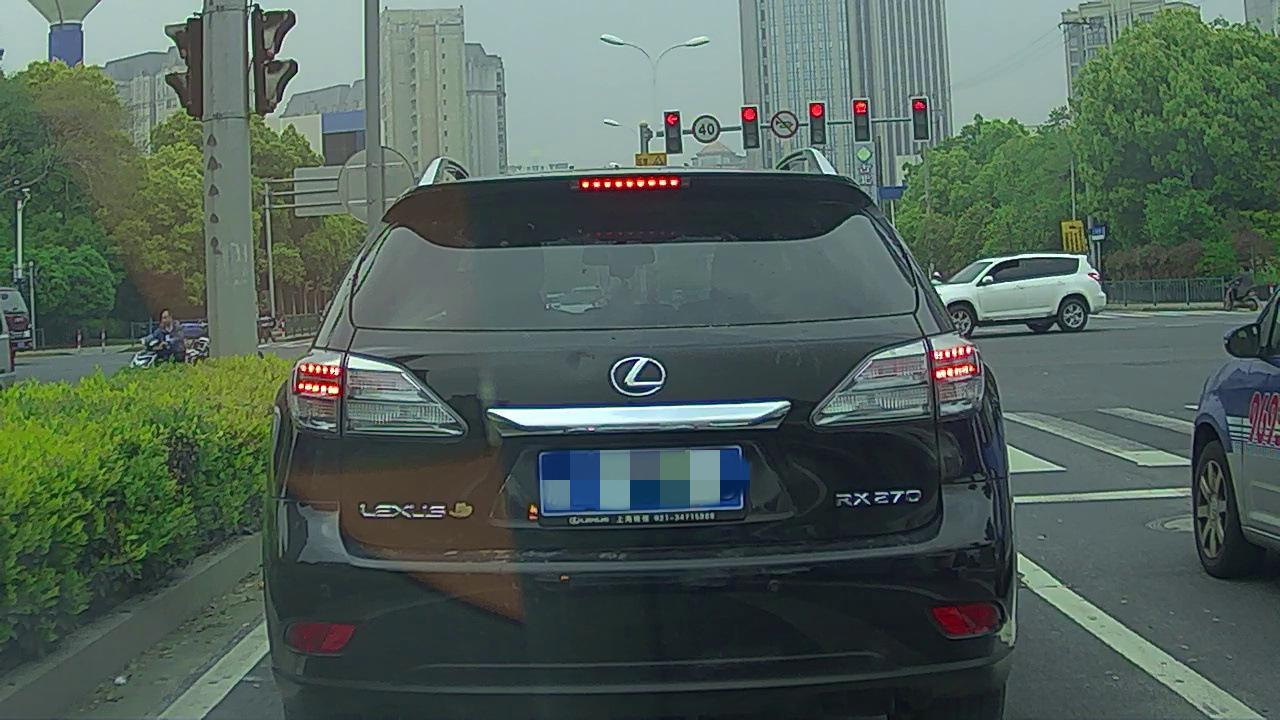traffic_light: (911, 98, 929, 141), (664, 111, 682, 153), (741, 106, 759, 148), (809, 103, 826, 144), (853, 100, 870, 141)
